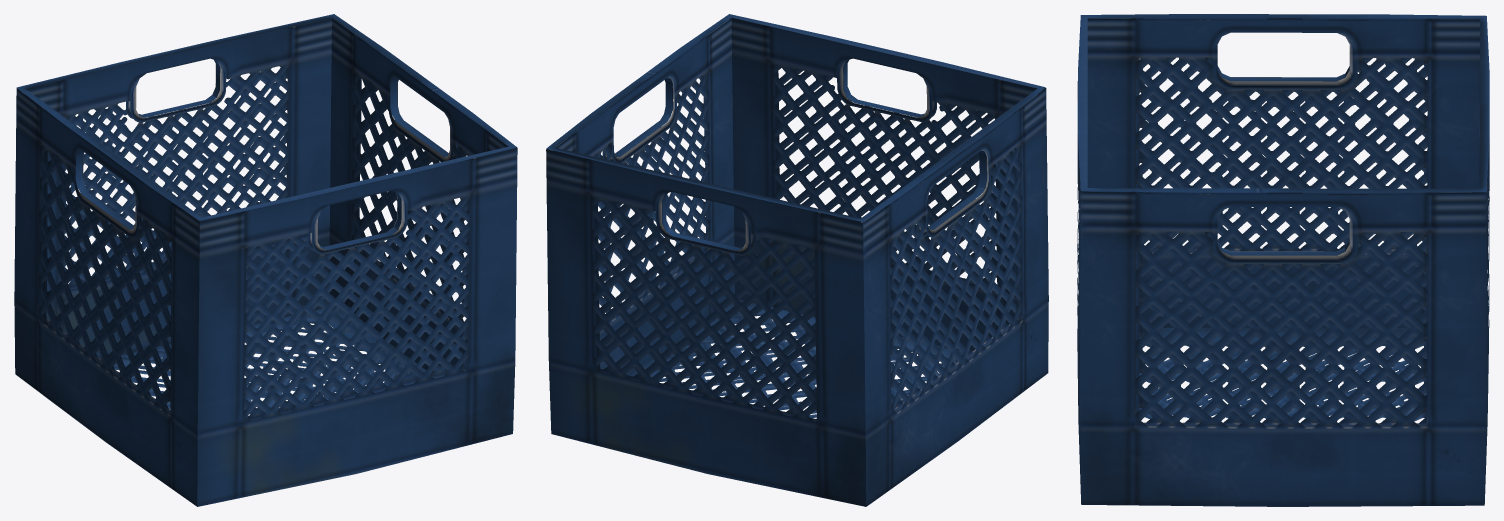
File: plastic_crate.glb
3 views of the same model, side by side, from view 1: azimuth 30°, elevation 25°; view 2: azimuth 150°, elevation 25°; view 3: azimuth 270°, elevation 25° (orthographic). The views are drawn at different scales.
Visible parts, largest first — view 1: Box003_Material #1_0; view 2: Box003_Material #1_0; view 3: Box003_Material #1_0.
Boxes of the visible parts, x1,y1,x2,y2 form: Box003_Material #1_0: (14, 14, 517, 506); Box003_Material #1_0: (546, 14, 1048, 506); Box003_Material #1_0: (1077, 14, 1489, 506).
Size of the model in its own units: 42.31 by 36.24 by 42.06.
1 material, 1 textured.
